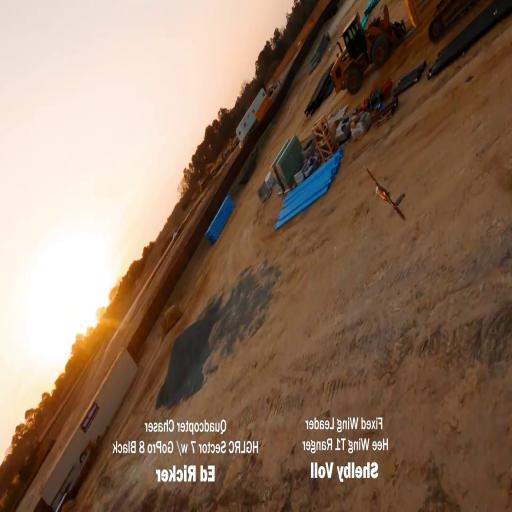uav: (360, 164, 414, 227)
